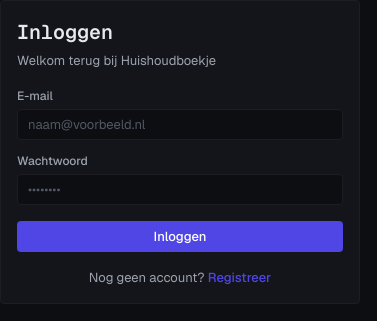
Test case: shows loading state while submitting
The image size is (377, 321).
Type "test@example.com" into the field labelled "E-mail" at (180,124), box [17, 108, 343, 140]
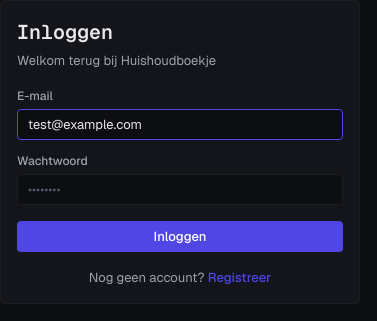
Type "password" into the password field labelled "Wachtwoord" at (180,189), box [17, 174, 343, 204]
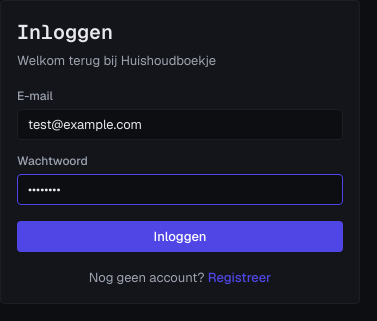
Click the button "Inloggen" at (180,236), box [17, 220, 343, 252]
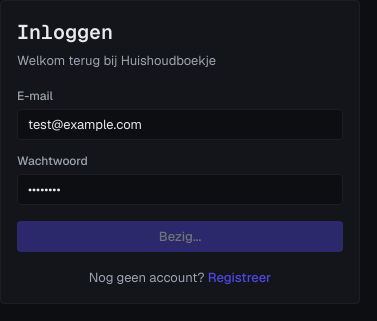
Now the button "Bezig..." is disabled, box [17, 220, 343, 252]
